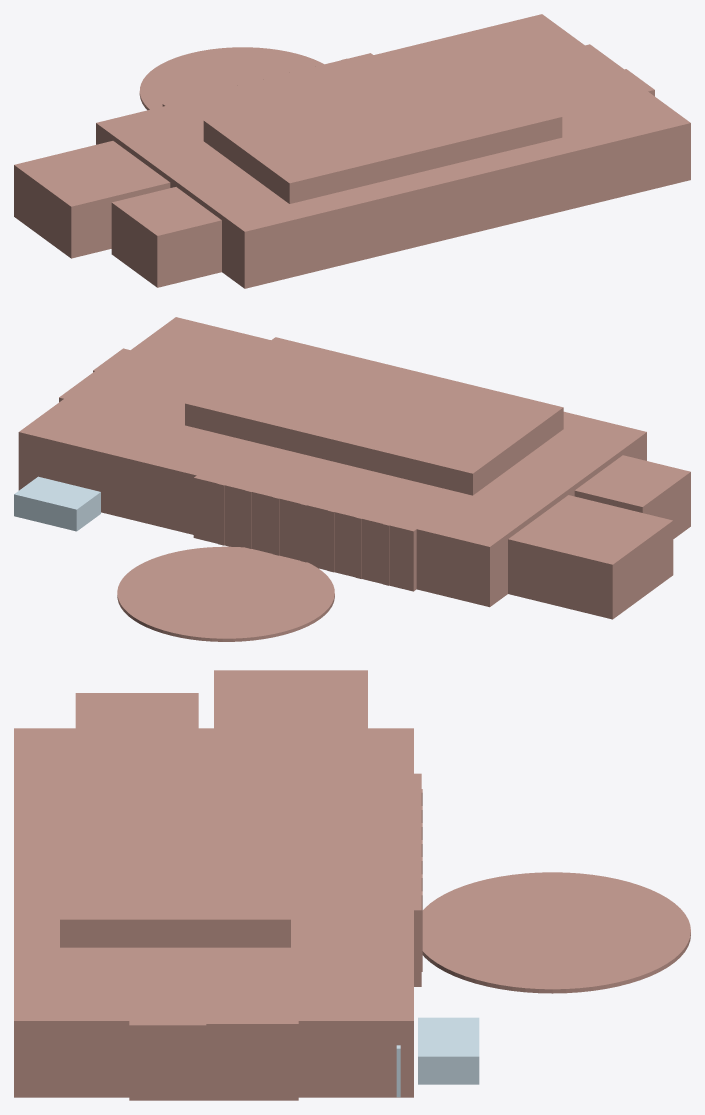
The picture shows the model from 3 angles, top to bottom: view 1: azimuth 30°, elevation 25°; view 2: azimuth 150°, elevation 25°; view 3: azimuth 270°, elevation 25°; orthographic projection. The views are drawn at different scales.
Parts seen in each view (by area): view 1: schwitzer_opaque; view 2: schwitzer_opaque, schwitzer_glass; view 3: schwitzer_opaque, schwitzer_glass.
Part boxes in pixels (x1,y1,x2,y2): schwitzer_opaque: [14, 14, 690, 288]; schwitzer_opaque: [18, 317, 690, 641]; schwitzer_glass: [14, 476, 100, 531]; schwitzer_opaque: [14, 670, 690, 1100]; schwitzer_glass: [396, 1017, 479, 1097].
Bounding box in the file's own units: 111 × 15 × 88.
